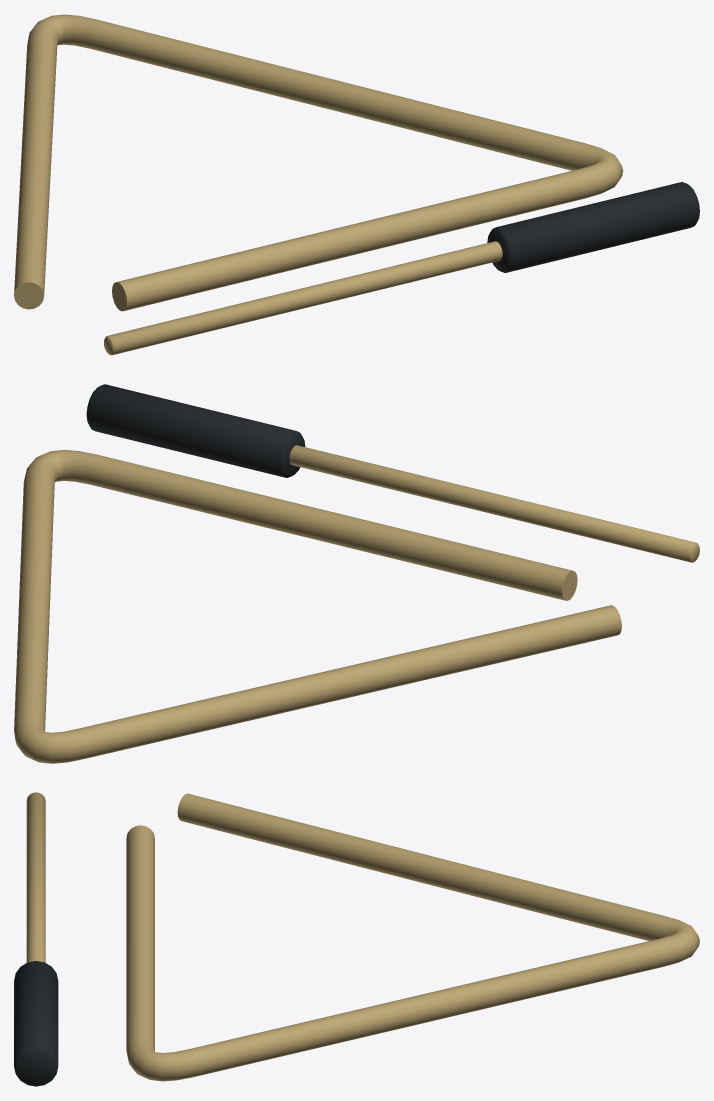
The picture shows the model from 3 angles, top to bottom: view 1: azimuth 30°, elevation 25°; view 2: azimuth 150°, elevation 25°; view 3: azimuth 270°, elevation 25°; orthographic projection. The views are drawn at different scales.
Parts seen in each view (by area): view 1: Whole open-corner rounded triangle rod, Seated plain black beater grip, Whole original beater metal shaft; view 2: Whole open-corner rounded triangle rod, Seated plain black beater grip, Whole original beater metal shaft; view 3: Whole open-corner rounded triangle rod, Seated plain black beater grip, Whole original beater metal shaft.
Boxes of the visible parts, left/top/right/bottom form: Whole open-corner rounded triangle rod: left=14, top=14, right=623, bottom=311; Seated plain black beater grip: left=487, top=182, right=699, bottom=272; Whole original beater metal shaft: left=104, top=241, right=502, bottom=355; Whole open-corner rounded triangle rod: left=14, top=450, right=621, bottom=763; Seated plain black beater grip: left=86, top=384, right=305, bottom=477; Whole original beater metal shaft: left=289, top=445, right=699, bottom=562; Whole open-corner rounded triangle rod: left=126, top=793, right=699, bottom=1081; Seated plain black beater grip: left=14, top=961, right=58, bottom=1086; Whole original beater metal shaft: left=26, top=792, right=45, bottom=962.
Bounding box in the file's own units: 0.2038 × 0.014 × 0.2166.
